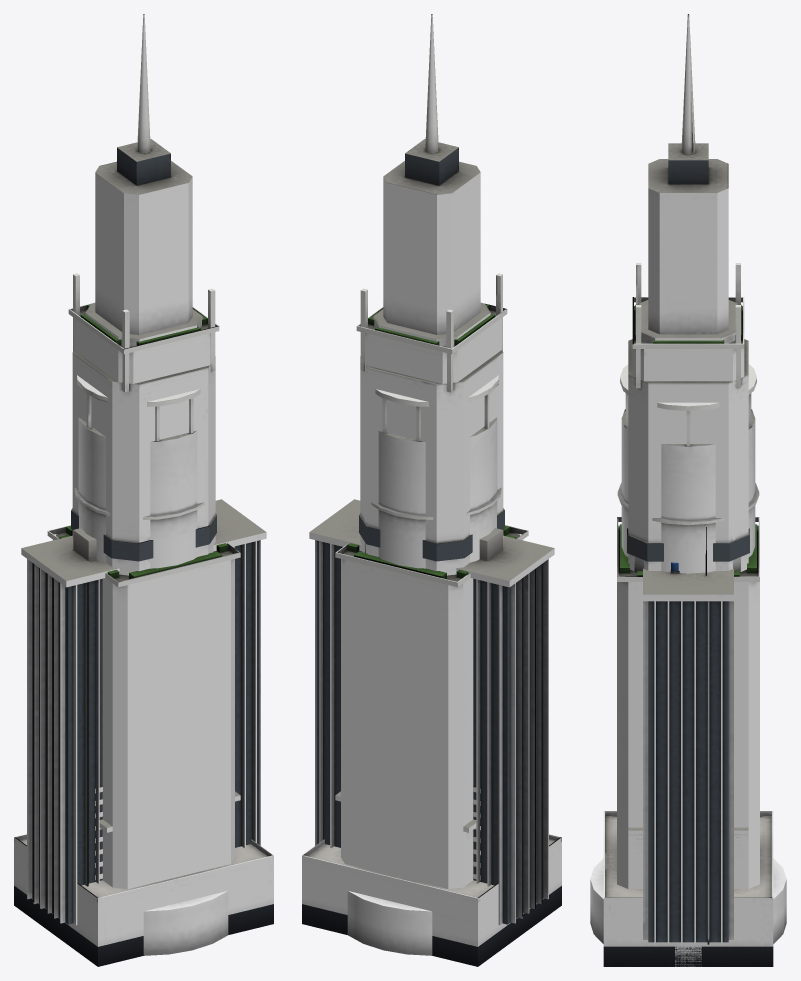
Rendered from city.glb.
The picture shows the model from 3 angles, left to right: view 1: azimuth 30°, elevation 25°; view 2: azimuth 150°, elevation 25°; view 3: azimuth 270°, elevation 25°; orthographic projection.
Visible parts, largest first — view 1: stepped_tower_0, office_slab_0, glass_tower_0, round_tower_0; view 2: stepped_tower_0, office_slab_0, glass_tower_0, round_tower_0; view 3: stepped_tower_0, office_slab_0, glass_tower_0, round_tower_0, office_mid_0, apartment_block_0.
Part boxes in pixels (x1,y1,x2,y2): stepped_tower_0: (47,14,240,889); office_slab_0: (21,499,266,925); glass_tower_0: (14,273,273,966); round_tower_0: (74,375,228,955); stepped_tower_0: (335,14,528,889); office_slab_0: (309,499,554,925); glass_tower_0: (302,273,561,966); round_tower_0: (347,375,501,955); stepped_tower_0: (617,14,759,888); office_slab_0: (643,527,733,944); glass_tower_0: (603,263,773,966); round_tower_0: (590,364,786,943); office_mid_0: (628,827,748,888); apartment_block_0: (675,942,701,966).
Bounding box in the file's own units: 52.39 × 225 × 44.
1 material, 1 textured.
